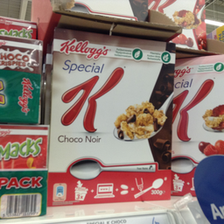cereal: (48, 27, 177, 178), (170, 53, 224, 172)
